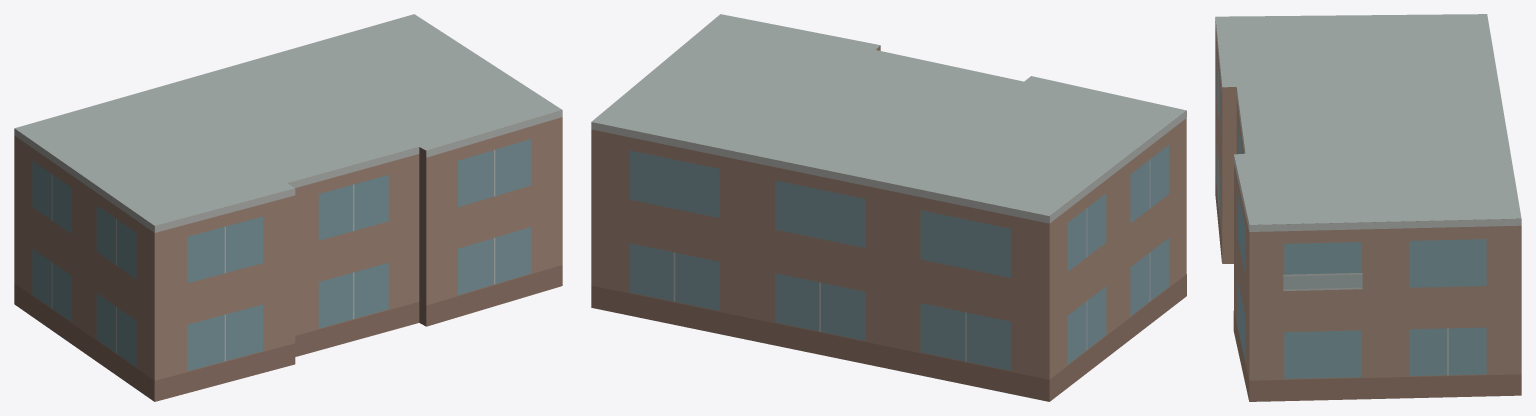
Rendered from survey-upis-33045532.glb.
3 renders of one model, left to right at view 1: azimuth 30°, elevation 25°; view 2: azimuth 150°, elevation 25°; view 3: azimuth 270°, elevation 25°, orthographic. The views are drawn at different scales.
Visible parts, largest first — view 1: survey-upis-33045532.tmp; view 2: survey-upis-33045532.tmp; view 3: survey-upis-33045532.tmp.
Boxes of the visible parts, <box> form: survey-upis-33045532.tmp: <box>14,14,562,401</box>; survey-upis-33045532.tmp: <box>591,14,1186,401</box>; survey-upis-33045532.tmp: <box>1215,14,1521,401</box>.
Bounding box in the file's own units: 15.61 × 6.1 × 9.58.
